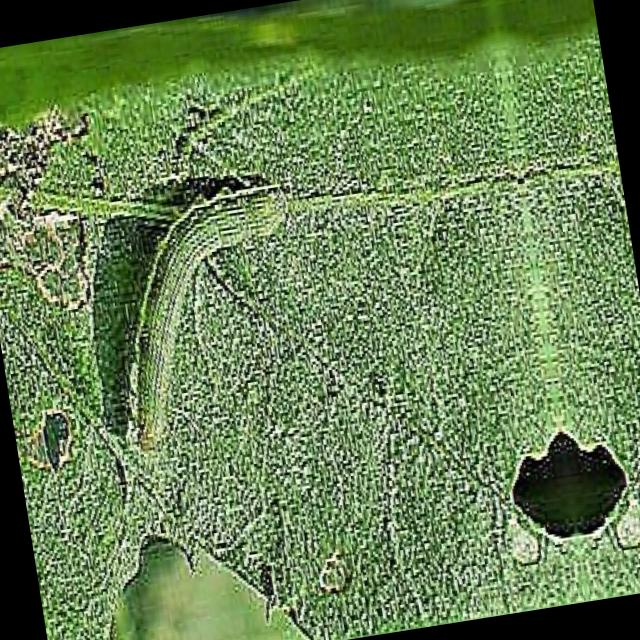Armyworm: (78, 154, 331, 474)
Armyworm_damage: (501, 399, 640, 577)
